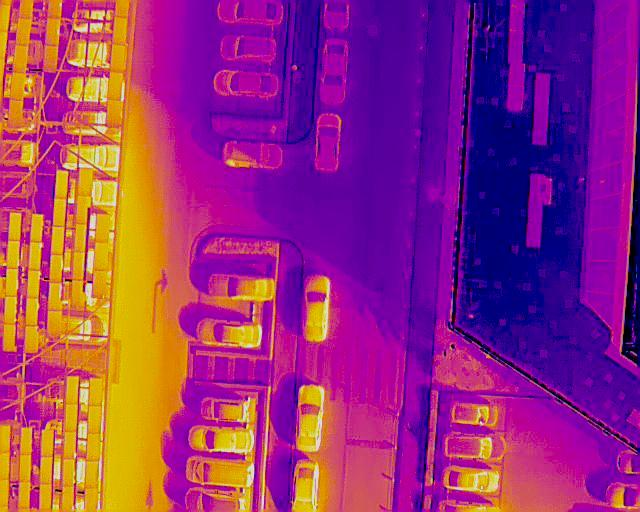Cell: (45, 17, 61, 46), (93, 270, 107, 298), (30, 241, 42, 270), (60, 487, 74, 511), (64, 430, 76, 458)
Cell-Multi: (63, 459, 75, 486)
No-Anomaly: (16, 18, 32, 46), (112, 16, 127, 45), (13, 44, 28, 73), (77, 168, 92, 196), (108, 72, 123, 100), (43, 45, 57, 74), (8, 99, 22, 128), (111, 45, 126, 72), (85, 461, 99, 489), (10, 73, 24, 100), (51, 226, 64, 255), (55, 171, 68, 200), (87, 433, 100, 462), (106, 100, 120, 126), (96, 215, 109, 243), (48, 310, 61, 338), (41, 430, 54, 458), (27, 270, 40, 298), (88, 406, 101, 433), (8, 214, 21, 241), (53, 199, 65, 228), (65, 403, 77, 432), (7, 240, 19, 268), (74, 224, 86, 251), (66, 376, 78, 403), (95, 243, 107, 270), (5, 297, 17, 324), (41, 457, 53, 484), (90, 379, 102, 406), (20, 454, 31, 483), (73, 252, 84, 281), (27, 299, 39, 325), (25, 326, 37, 352), (76, 196, 87, 224), (31, 214, 42, 242), (4, 324, 15, 352), (7, 269, 18, 297), (21, 428, 32, 454), (40, 484, 51, 510), (20, 482, 31, 508)
Unclassified: (49, 283, 62, 311), (51, 255, 63, 283)
